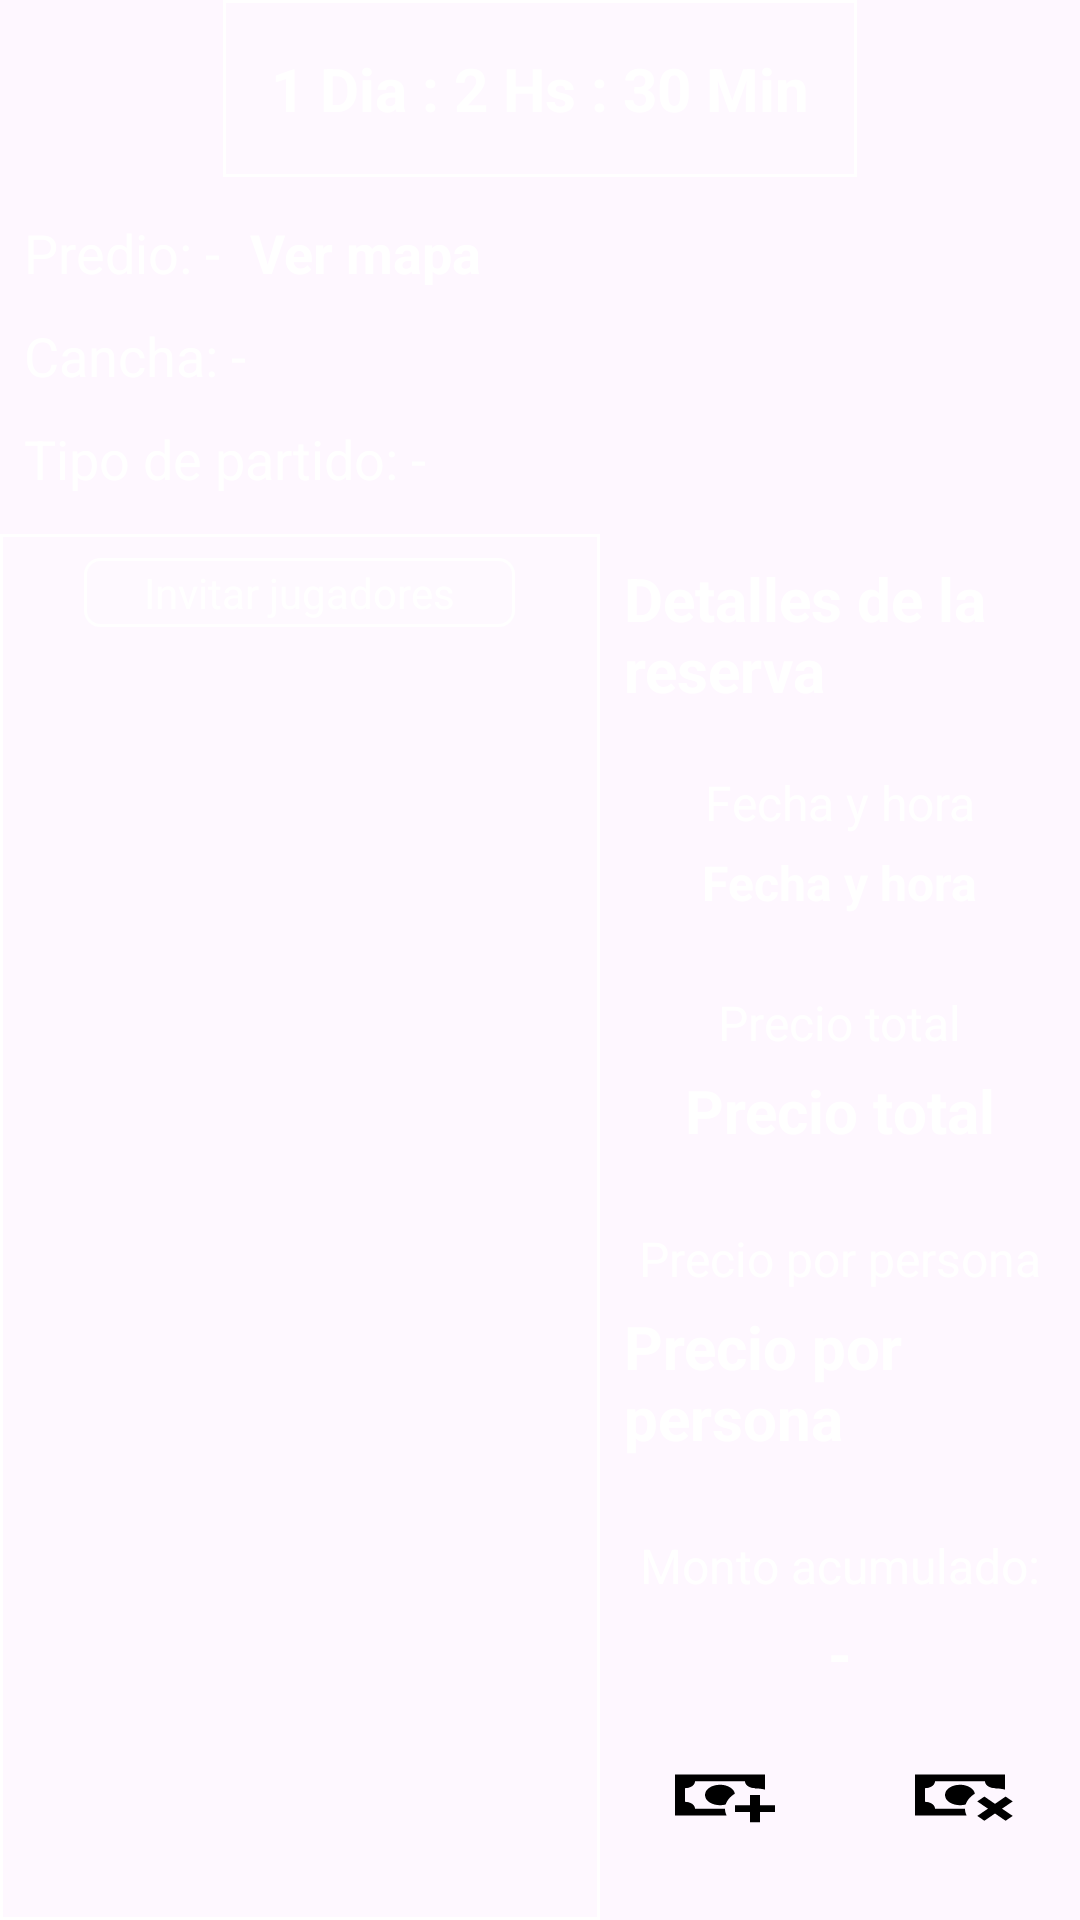

Icon click points for this 1080w x 1920h phone screenshot, format point (x, y):
add funds: point (725, 1798)
remove funds: point (964, 1797)
